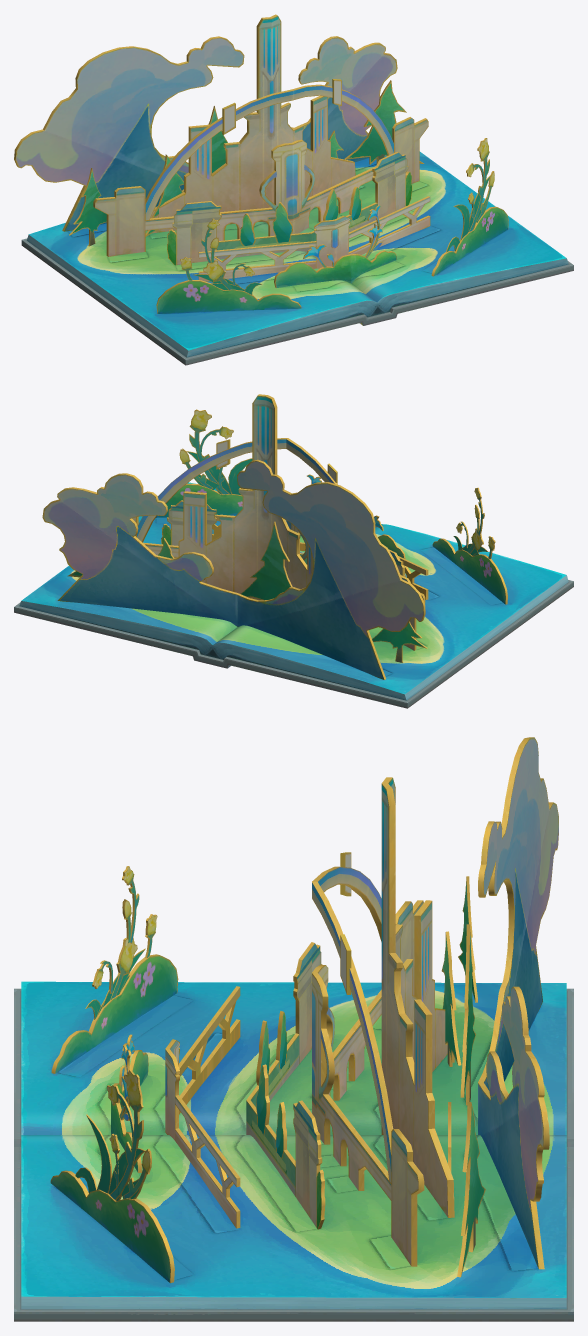
The model's file is Homeworld_Interior_Fd_Decoration_Prop_MovieShapan_01_Lod0.fbx.
3 views of the same model, one above another, from view 1: azimuth 30°, elevation 25°; view 2: azimuth 150°, elevation 25°; view 3: azimuth 270°, elevation 25° (orthographic). The views are drawn at different scales.
Parts seen in each view (by area): view 1: Area_Fd_Prop_FDC_Filmfest_14_Lod0; view 2: Area_Fd_Prop_FDC_Filmfest_14_Lod0; view 3: Area_Fd_Prop_FDC_Filmfest_14_Lod0.
Boxes of the visible parts, <box> form: Area_Fd_Prop_FDC_Filmfest_14_Lod0: <box>14,14,573,365</box>; Area_Fd_Prop_FDC_Filmfest_14_Lod0: <box>14,394,573,708</box>; Area_Fd_Prop_FDC_Filmfest_14_Lod0: <box>14,737,573,1321</box>.
Size of the model in its own units: 1.21 by 0.647 by 0.8568.
Materials: 1 (1 with a texture image).
